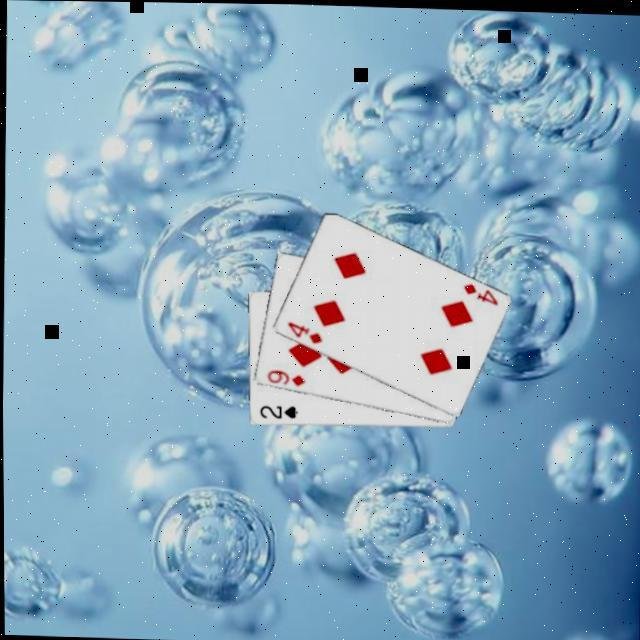2S: (254, 403, 298, 424)
4D: (281, 319, 321, 347), (457, 279, 497, 307)
9D: (260, 367, 304, 391)
